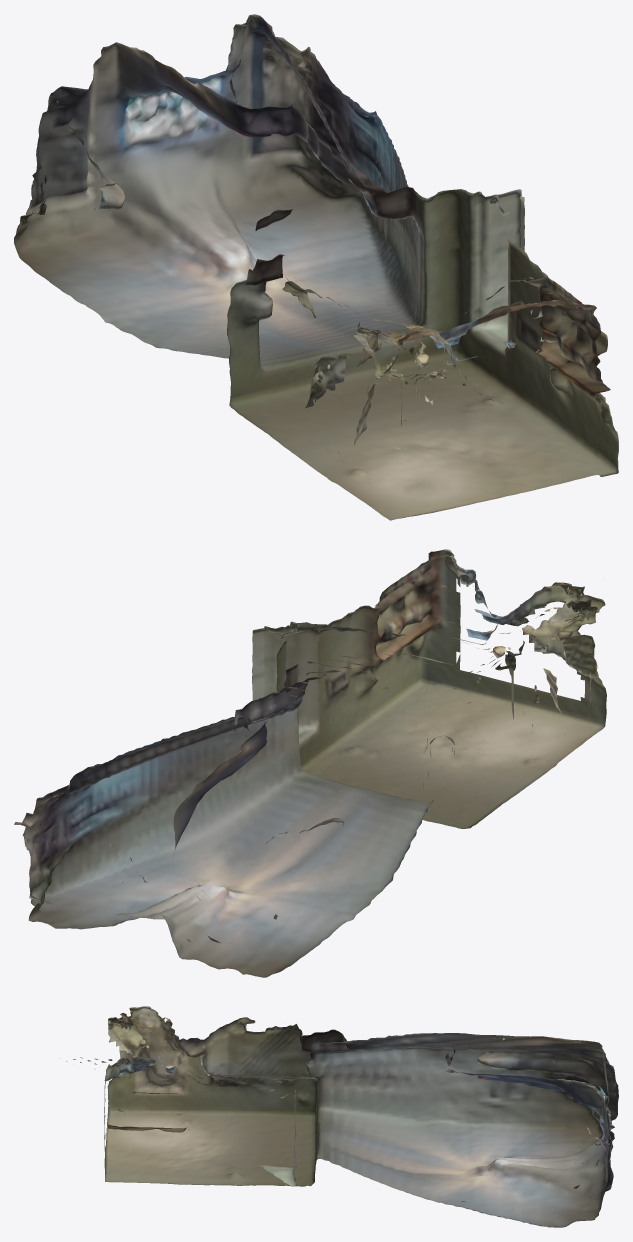
Rendered from collider.glb.
3 renders of one model, top to bottom at view 1: azimuth 30°, elevation 25°; view 2: azimuth 150°, elevation 25°; view 3: azimuth 270°, elevation 25°, orthographic. The views are drawn at different scales.
Visible parts, largest first — view 1: world; view 2: world; view 3: world.
Part boxes in pixels (bbox=[...]): world: bbox=[14, 14, 618, 520]; world: bbox=[14, 549, 606, 977]; world: bbox=[59, 1006, 618, 1227].
Size of the model in its own units: 7.61 by 4.56 by 18.86.
